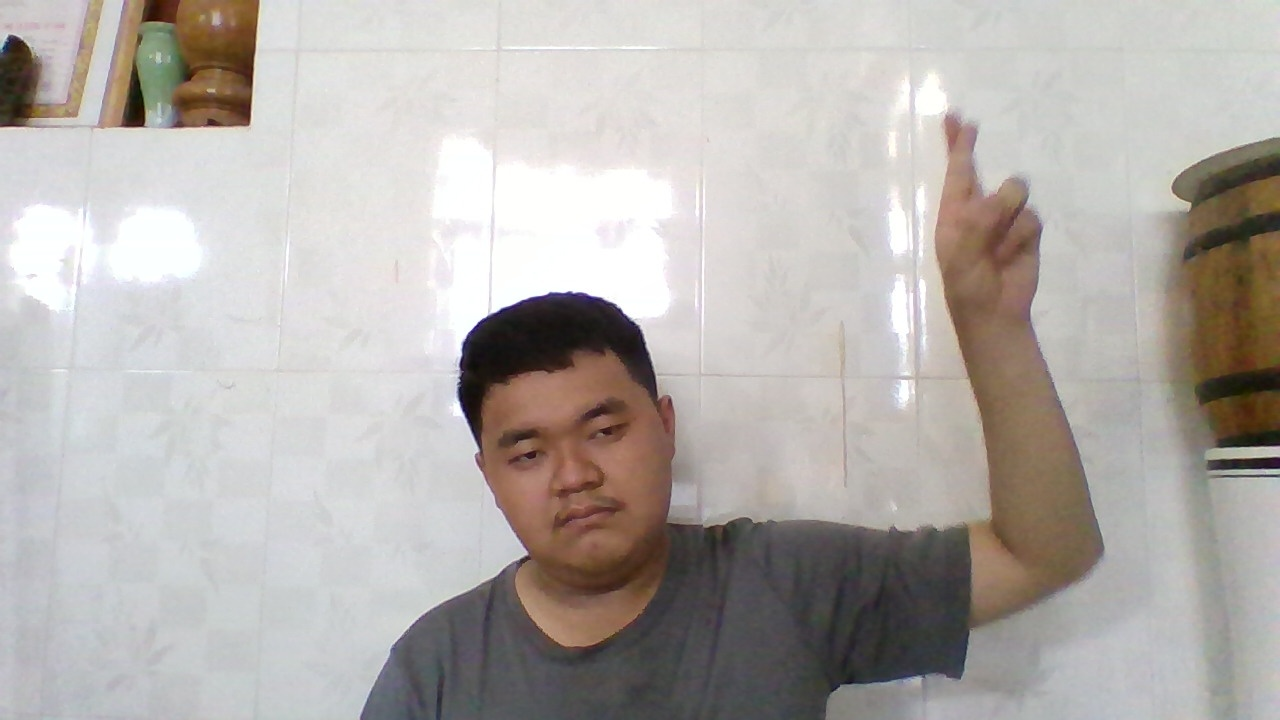R: (938, 106, 1046, 329)
